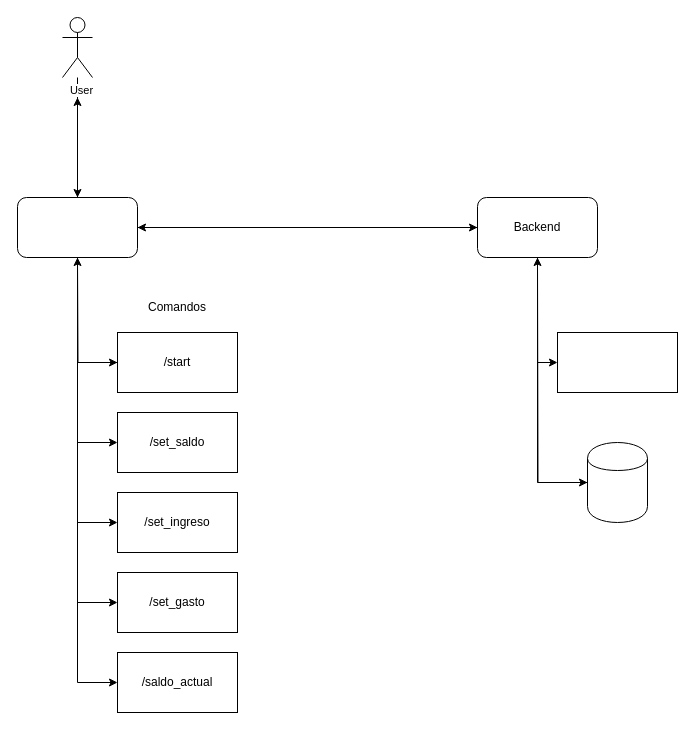
Some shapes in this 695 by 730 pixel diagram are drawn without their labels. Each missing label, with the centre of its shape:
"MongoDB" belongs at pixel 617 482.
"Python" belongs at pixel 617 362.
"Telegram Bot" belongs at pixel 77 227.
